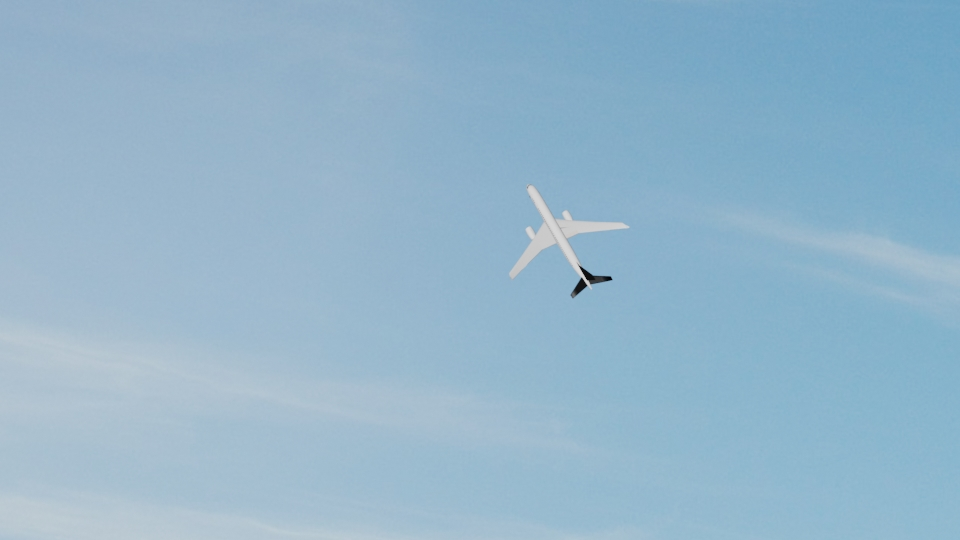plane: (509, 179, 632, 301)
